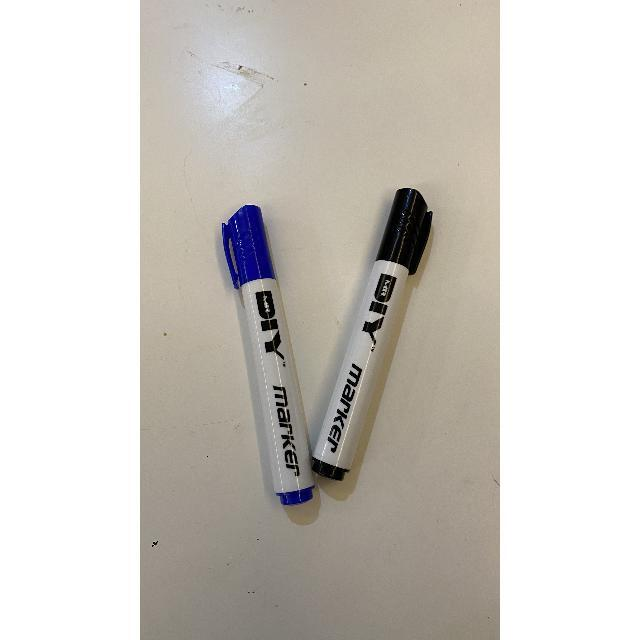marker: (315, 183, 435, 485), (227, 203, 320, 505)
